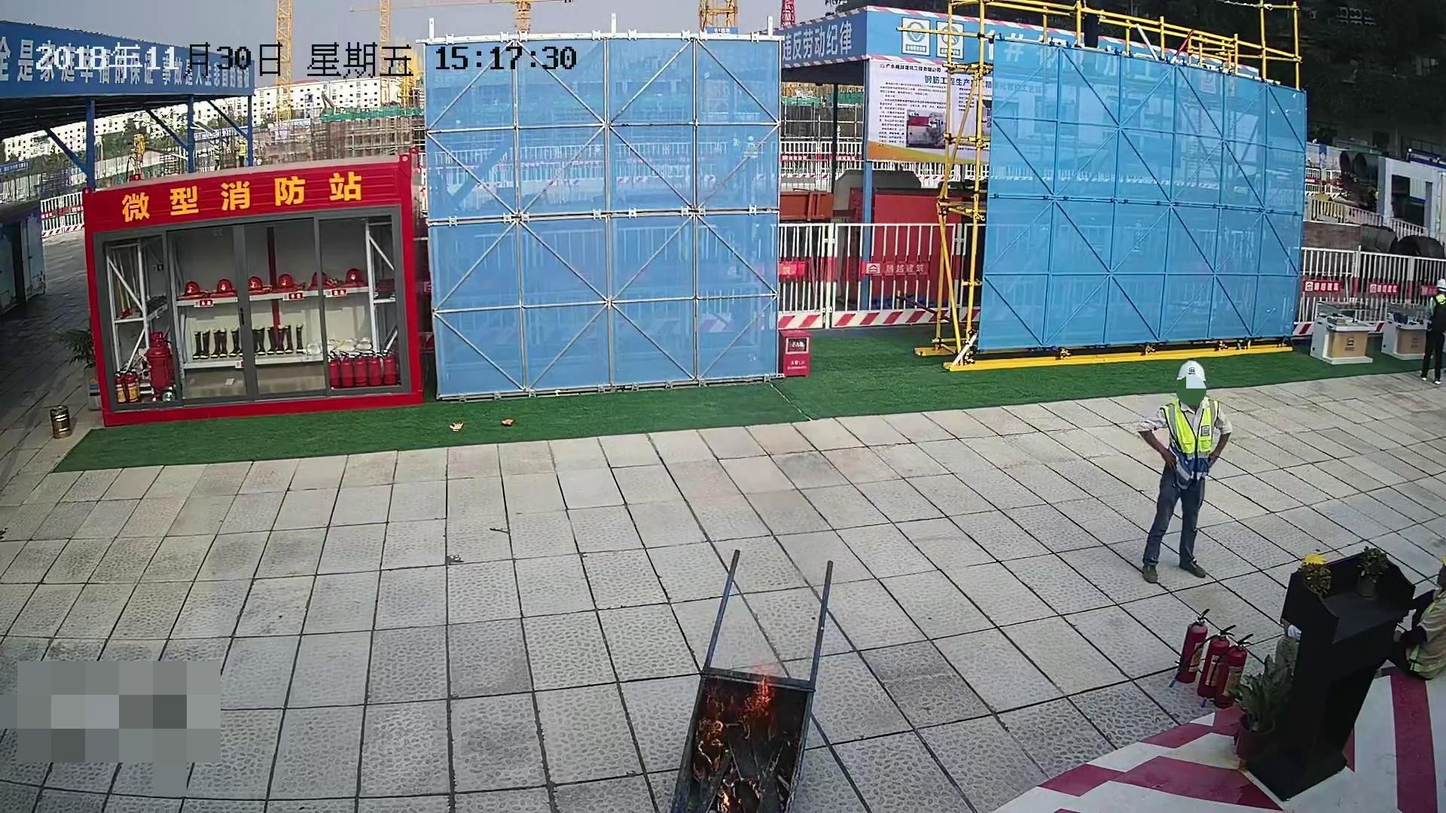hat: (1173, 357, 1206, 405), (1435, 279, 1445, 293)
person: (1137, 358, 1234, 587), (1387, 556, 1445, 682), (1415, 278, 1444, 388)
